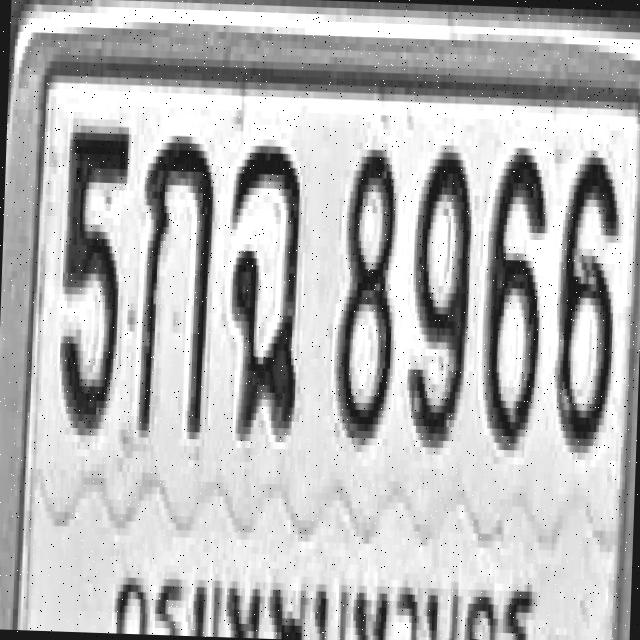10GorGai: (134, 128, 216, 440)
18ChorChing: (223, 134, 305, 439)
5: (57, 121, 129, 432)
6: (480, 140, 548, 451), (553, 150, 620, 453)
8: (332, 142, 399, 446)
9: (404, 144, 474, 448)
